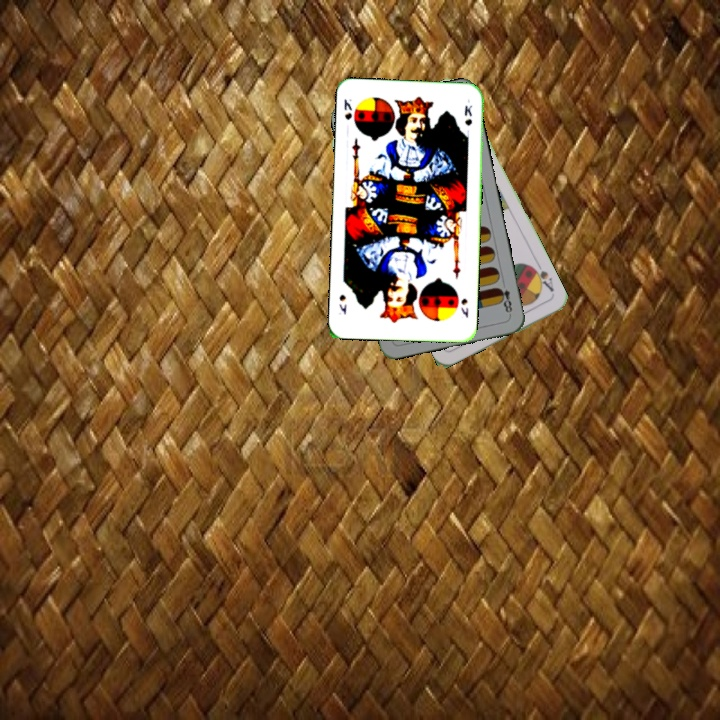E8: (494, 283, 515, 318)
SA: (527, 259, 556, 294)
SK: (340, 95, 355, 122), (457, 294, 471, 320)
